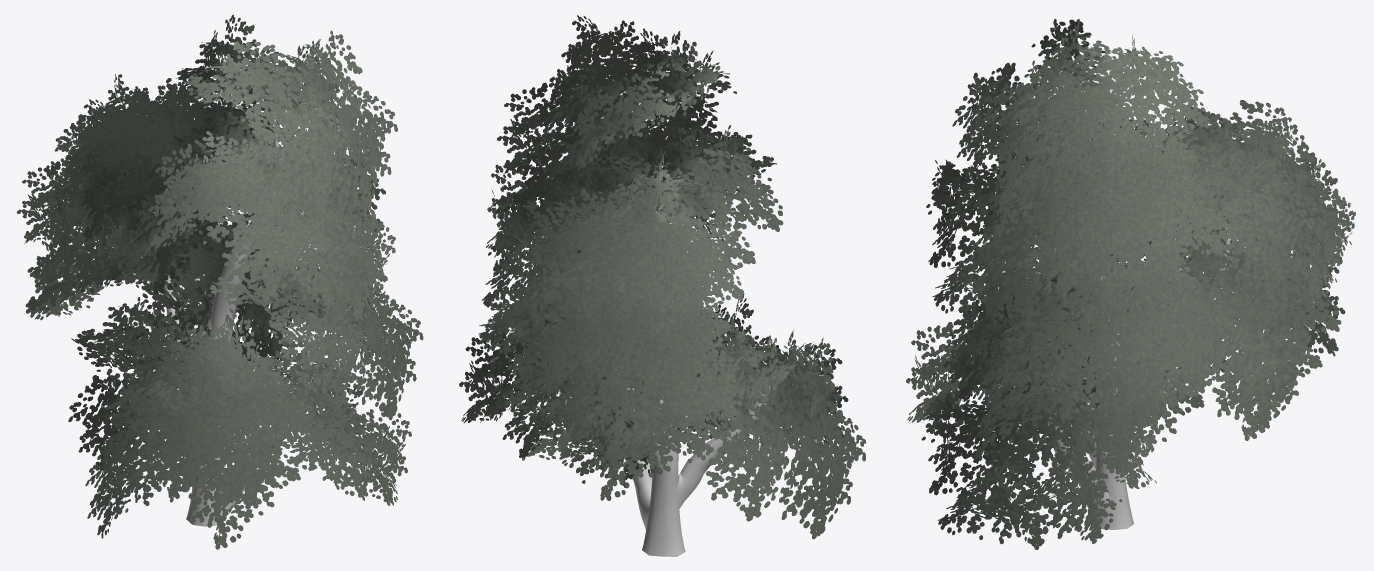
Rendered from SM_Tree_D_02.fbx.
3 views of the same model, side by side, from view 1: azimuth 30°, elevation 25°; view 2: azimuth 150°, elevation 25°; view 3: azimuth 270°, elevation 25° (orthographic). The views are drawn at different scales.
Visible parts, largest first — view 1: SM_Tree_D_02_LOD0; view 2: SM_Tree_D_02_LOD0; view 3: SM_Tree_D_02_LOD0.
Boxes of the visible parts, left/top/right/bottom form: SM_Tree_D_02_LOD0: left=16, top=15, right=423, bottom=549; SM_Tree_D_02_LOD0: left=459, top=15, right=866, bottom=556; SM_Tree_D_02_LOD0: left=906, top=19, right=1355, bottom=549.
Size of what is drawn, in the model's own units: 11.59 by 15.8 by 12.82.
